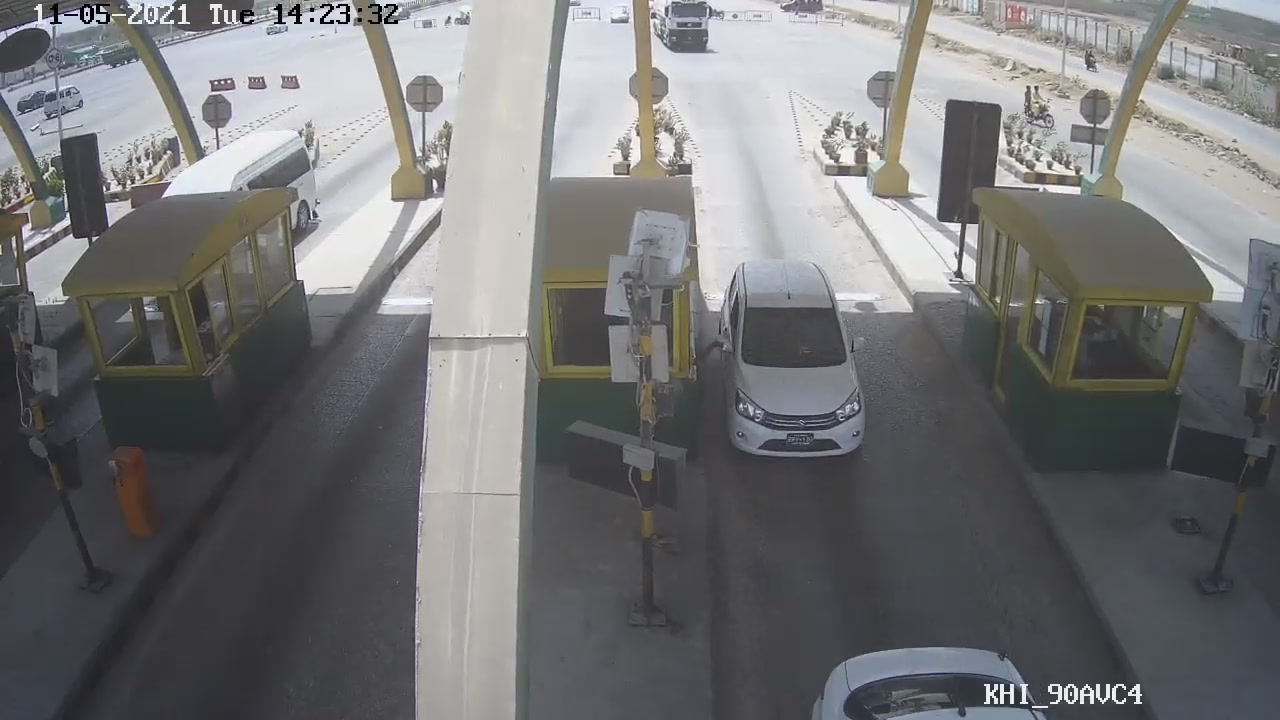F1: (716, 248, 870, 463)
